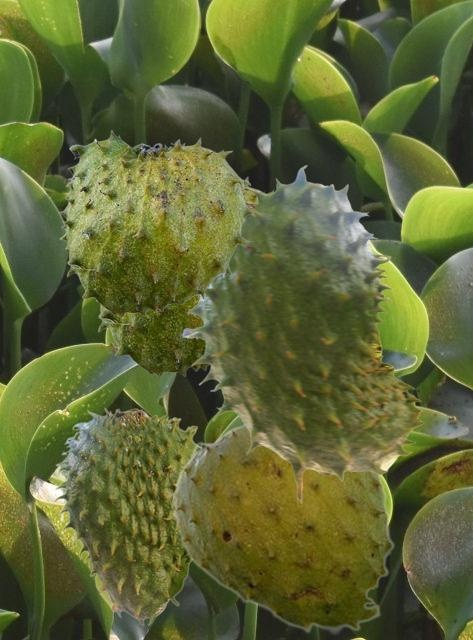guyabano: (182, 165, 423, 502), (169, 424, 394, 635), (58, 129, 254, 316), (95, 176, 274, 376), (52, 407, 198, 625)
